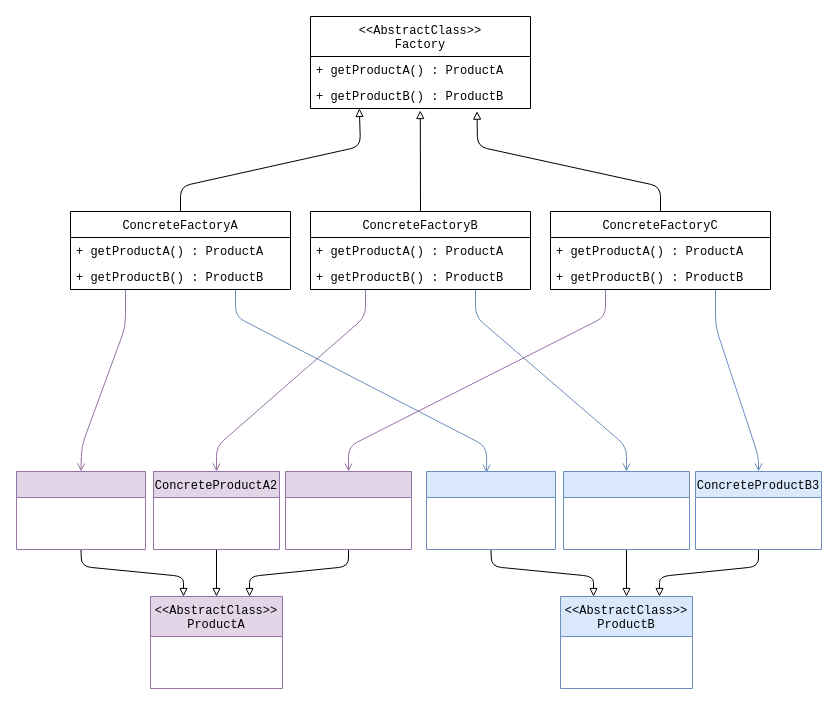
This 838x705 diagram has some shape labels left out. Each missing label, with the centre of its shape:
ConcreteProductA1: pixel 81 510
ConcreteProductA3: pixel 348 510
ConcreteProductB1: pixel 491 510
ConcreteProductB2: pixel 626 510
